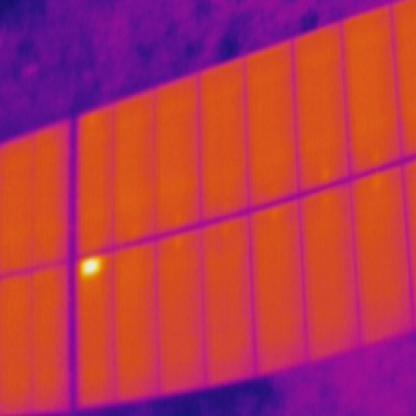anomaly: (76, 256, 108, 279)
